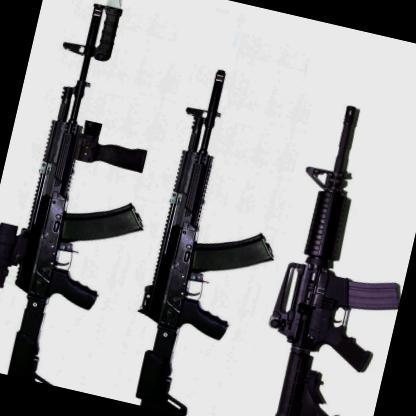rifle: (0, 0, 195, 398), (99, 54, 308, 416), (248, 89, 416, 416)
